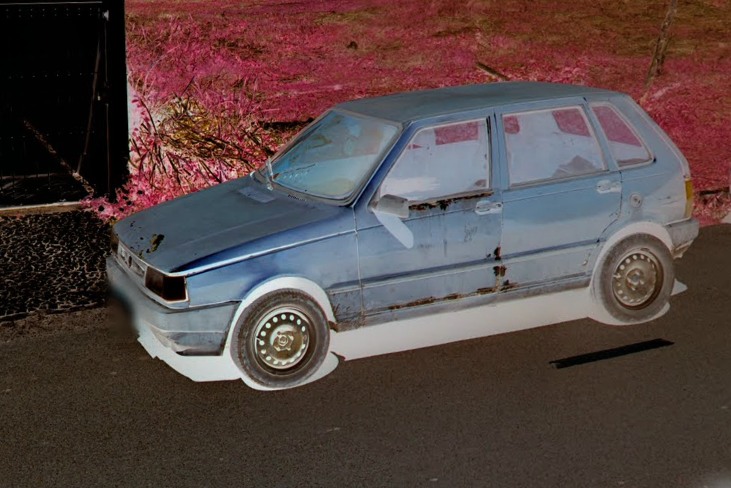car: (103, 80, 700, 394)
